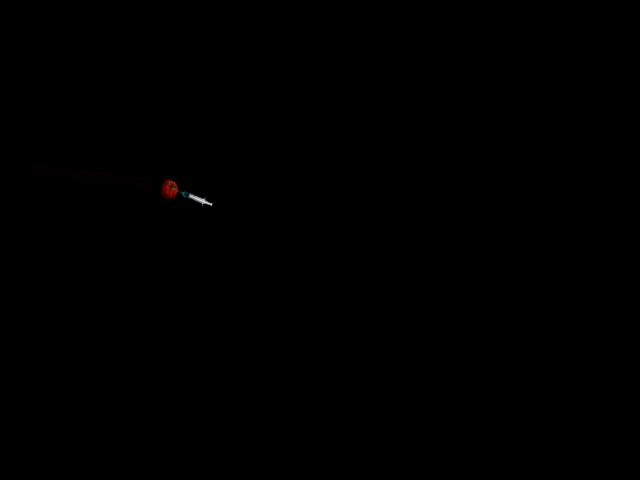tomato: (159, 178, 178, 200)
